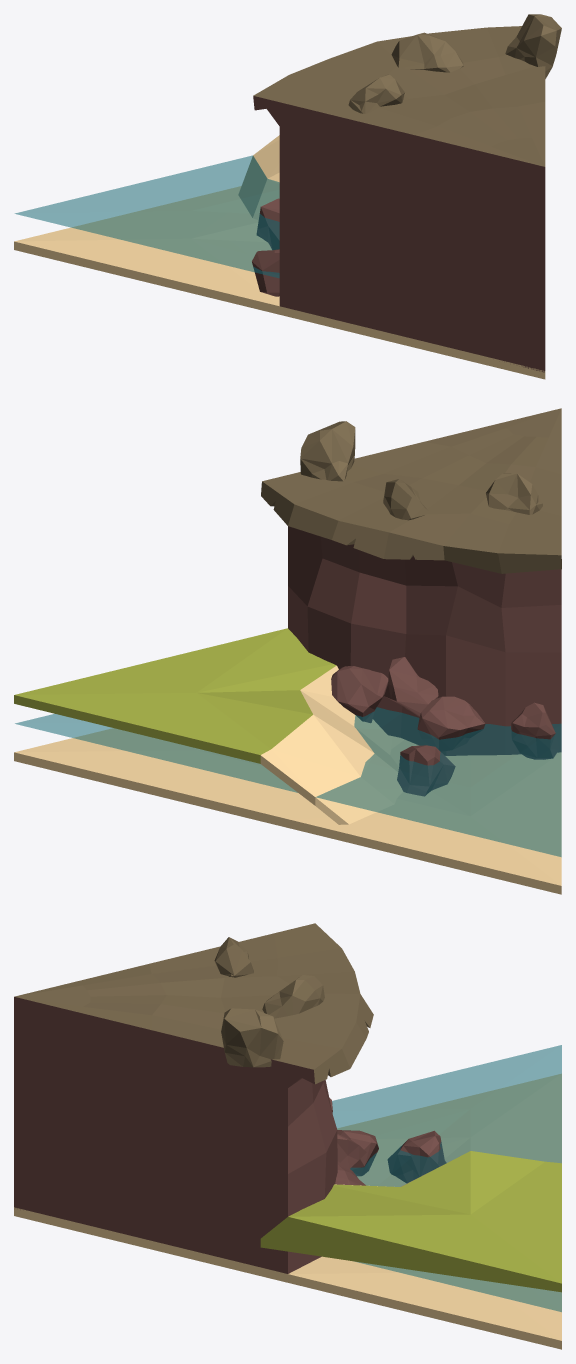
File: tile9.glb
3 renders of one model, top to bottom at view 1: azimuth 30°, elevation 25°; view 2: azimuth 150°, elevation 25°; view 3: azimuth 270°, elevation 25°, orthographic. The views are drawn at different scales.
Visible parts, largest first — view 1: hill8.001, sand7.003, water4.002, ground.005, bush2.004, bush1.004, bush3.004, rock1.002, rock4.002; view 2: hill8.001, sand7.003, ground.005, water4.002, bush2.004, rock3.002, rock5.002, rock4.002, rock1.002, rock0.014, bush3.004, bush1.004; view 3: hill8.001, ground.005, sand7.003, water4.002, bush2.004, rock4.002, bush1.004, bush3.004, rock3.002, rock0.014.
Part boxes in pixels (x1,y1,x2,y2): hill8.001: (253,26,545,372); sand7.003: (14,186,545,379); water4.002: (15,155,279,277); ground.005: (238,135,279,219); bush2.004: (505,14,561,78); bush1.004: (391,32,463,72); bush3.004: (348,74,405,113); rock1.002: (252,249,279,296); rock4.002: (256,198,279,249); hill8.001: (261,408,561,755); sand7.003: (14,728,561,894); ground.005: (14,628,402,824); water4.002: (15,707,561,856); bush2.004: (300,421,355,481); rock3.002: (417,696,485,751); rock5.002: (331,666,388,722); rock4.002: (397,745,455,796); rock1.002: (511,702,558,759); rock0.014: (384,657,438,716); bush3.004: (486,473,542,514); bush1.004: (383,479,429,520); hill8.001: (14,923,373,1273); ground.005: (260,1151,561,1292); sand7.003: (14,1073,561,1349); water4.002: (332,1045,561,1311); bush2.004: (221,1008,283,1067); rock4.002: (387,1130,446,1183); bush1.004: (262,975,324,1018); bush3.004: (214,937,253,977); rock3.002: (337,1130,378,1176); rock0.014: (337,1134,366,1168).
Bounding box in the file's own units: 1 × 0.5012 × 0.866.
